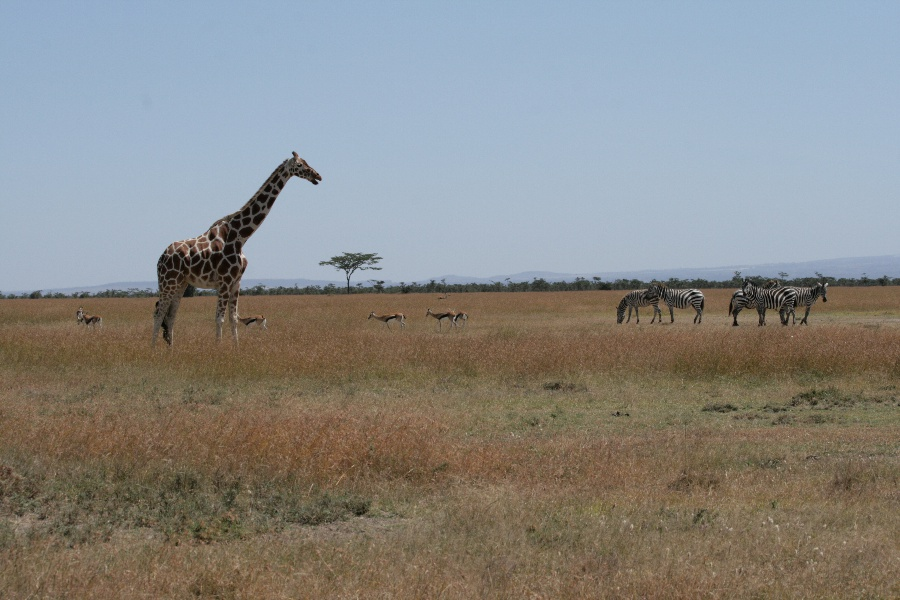giraffe: (145, 146, 328, 354)
